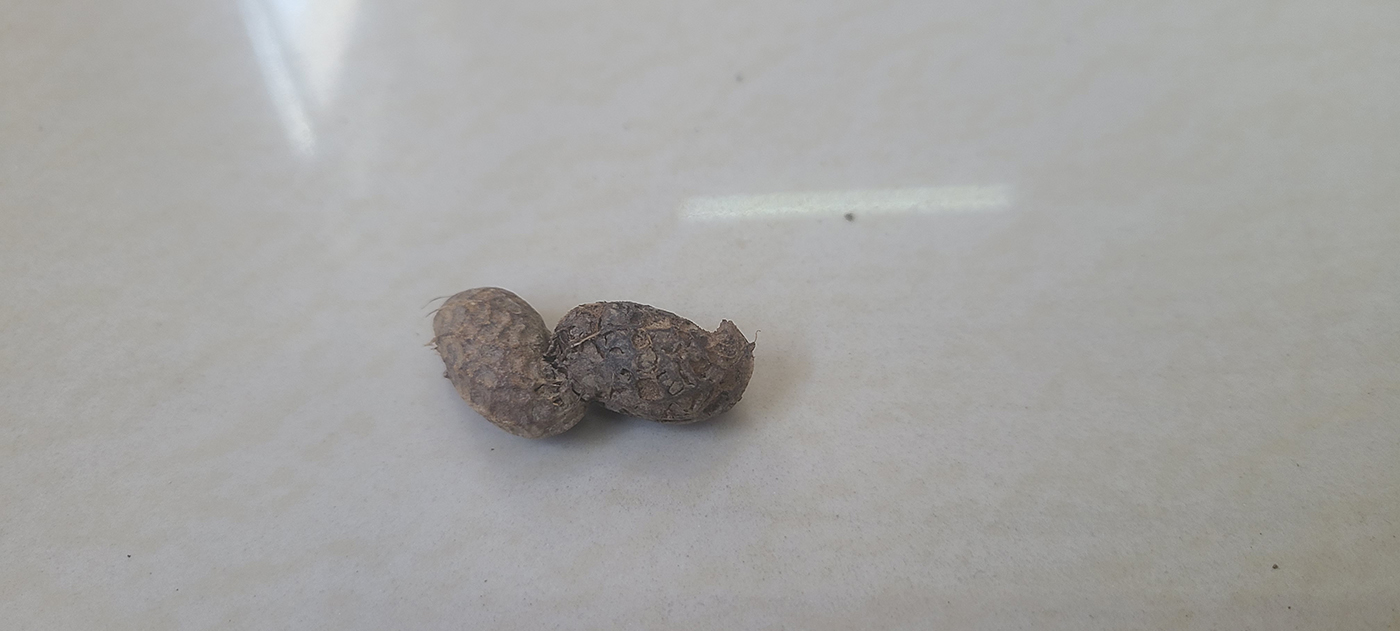l: (435, 284, 756, 444)
